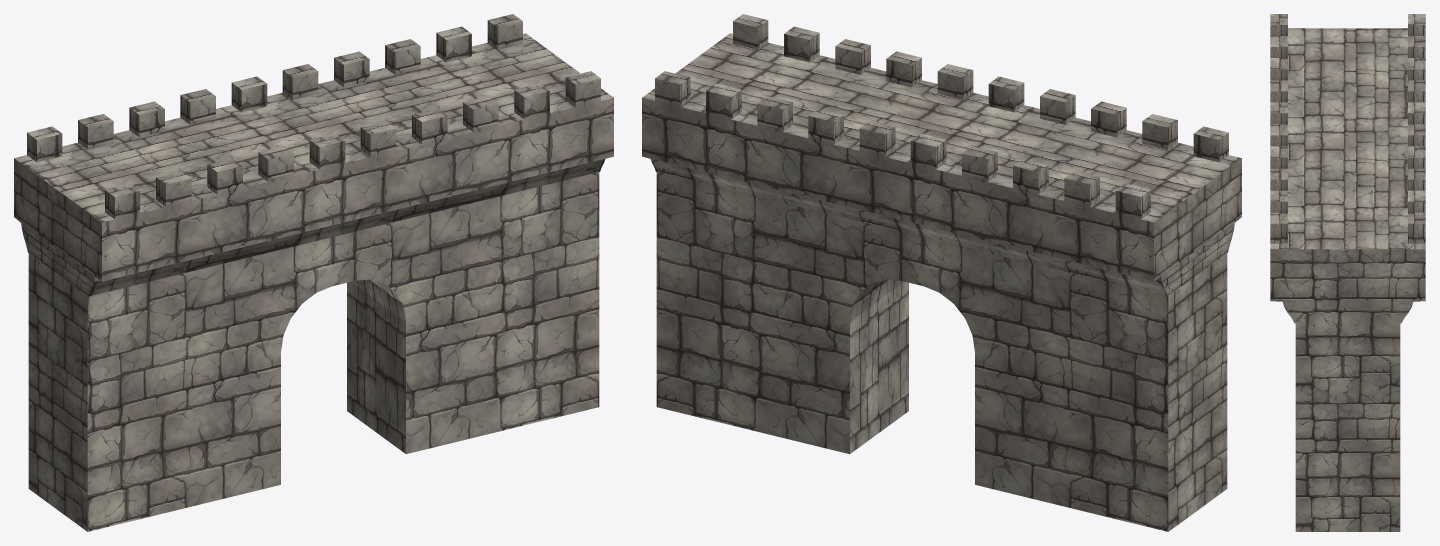
The model's file is StoneWallDoor.fbx.
3 renders of one model, left to right at view 1: azimuth 30°, elevation 25°; view 2: azimuth 150°, elevation 25°; view 3: azimuth 270°, elevation 25°, orthographic. The views are drawn at different scales.
Visible parts, largest first — view 1: StoneWallDoor; view 2: StoneWallDoor; view 3: StoneWallDoor.
Part boxes in pixels (<box>): StoneWallDoor: <box>14,14,613,531</box>; StoneWallDoor: <box>642,14,1241,531</box>; StoneWallDoor: <box>1270,14,1425,531</box>.
Size of the model in its own units: 1000 by 639 by 298.
